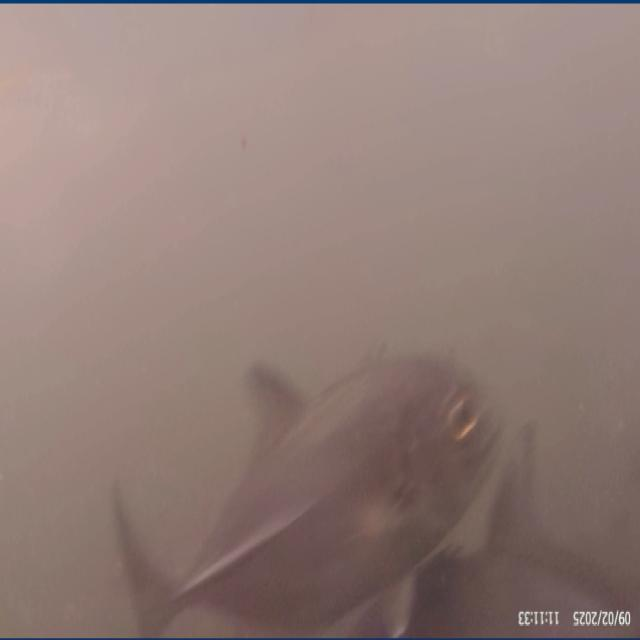ikan: (94, 330, 566, 570)
